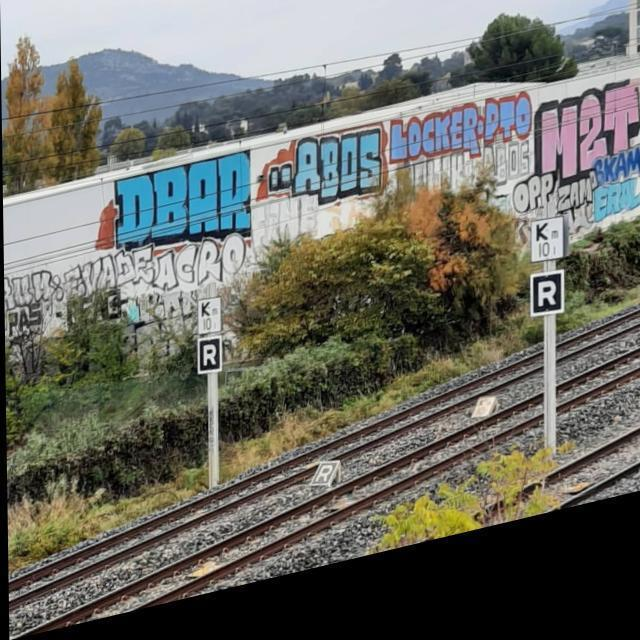nonspitting: (2, 232, 248, 340), (104, 152, 251, 238), (531, 76, 640, 177), (385, 92, 531, 165), (262, 131, 386, 211), (516, 172, 640, 243)
